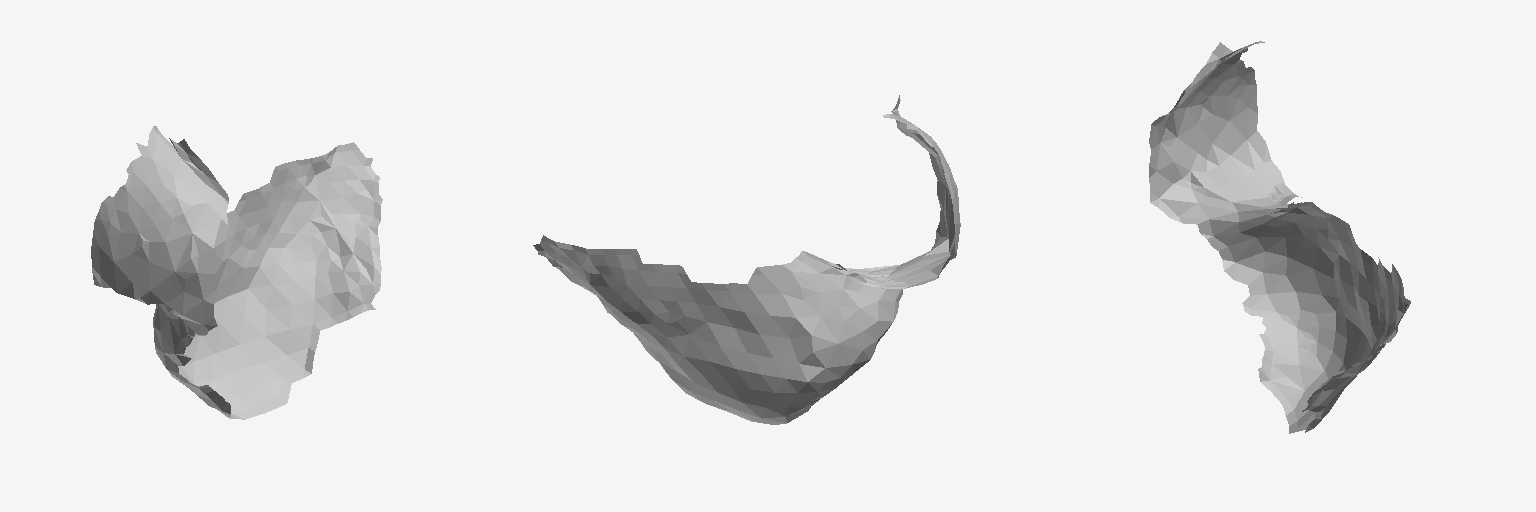
File: R_frontal_inferior_orbital.obj
3 views of the same model, side by side, from view 1: azimuth 30°, elevation 25°; view 2: azimuth 150°, elevation 25°; view 3: azimuth 270°, elevation 25° (orthographic).
Parts seen in each view (by area): view 1: R_frontal_inferior_orbital_L_frontal_inferior_orbital; view 2: R_frontal_inferior_orbital_L_frontal_inferior_orbital; view 3: R_frontal_inferior_orbital_L_frontal_inferior_orbital.
Boxes of the visible parts, x1,y1,x2,y2 form: R_frontal_inferior_orbital_L_frontal_inferior_orbital: [91, 126, 382, 419]; R_frontal_inferior_orbital_L_frontal_inferior_orbital: [533, 95, 960, 424]; R_frontal_inferior_orbital_L_frontal_inferior_orbital: [1149, 41, 1410, 433].
Bounding box in the file's own units: 80.4 × 71.56 × 51.82.